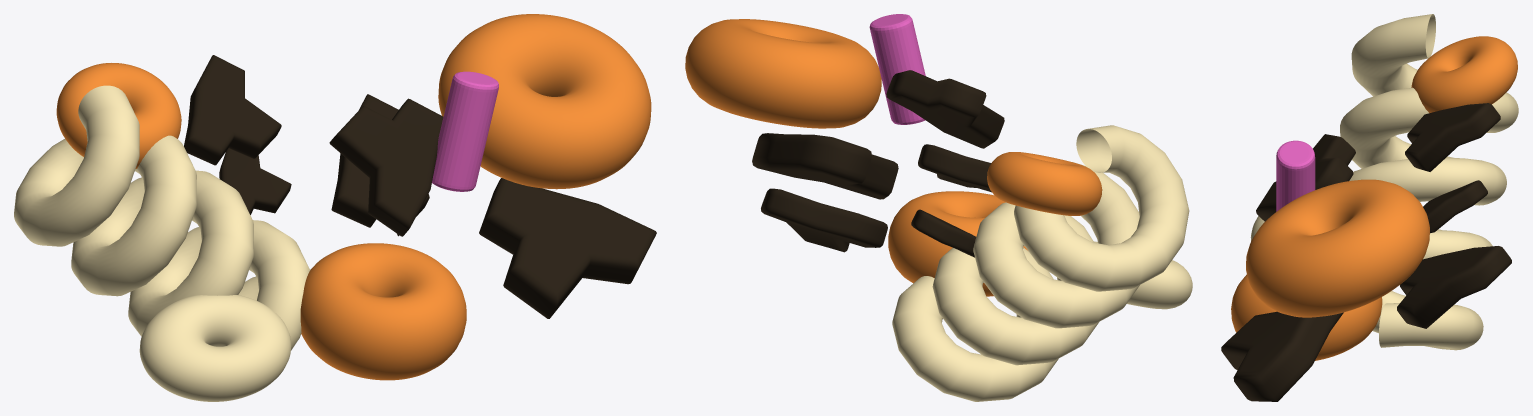
Rendered from background-model.glb.
3 views of the same model, side by side, from view 1: azimuth 30°, elevation 25°; view 2: azimuth 150°, elevation 25°; view 3: azimuth 270°, elevation 25° (orthographic). The views are drawn at different scales.
Parts seen in each view (by area): view 1: spring-001, torus-003, torus-001, abstrac-y-004, torus-002.001, abstrac-y-001, abstrac-y-002, torus-002, Cylinder, abstrac-y-002.001, abstrac-y-003; view 2: spring-001, torus-003, abstrac-y-004, torus-002, torus-001, abstrac-y-001, abstrac-y-003, Cylinder, abstrac-y-002, torus-002.001, abstrac-y-002.001; view 3: torus-003, spring-001, abstrac-y-004, torus-002, abstrac-y-003, abstrac-y-002, torus-001, abstrac-y-001, Cylinder, abstrac-y-002.001.
Part boxes in pixels (x1,y1,x2,y2): spring-001: (14,85,310,350); torus-003: (438,14,651,189); torus-001: (300,243,466,380); abstrac-y-004: (479,178,656,318); torus-002.001: (139,295,291,401); abstrac-y-001: (329,98,443,236); abstrac-y-002: (184,55,281,165); torus-002: (56,63,181,168); Cylinder: (432,71,498,191); abstrac-y-002.001: (219,148,291,214); abstrac-y-003: (331,94,429,236); spring-001: (892,125,1189,401); torus-003: (685,19,881,128); abstrac-y-004: (752,133,898,199); torus-002: (987,152,1102,215); torus-001: (888,191,1027,296); abstrac-y-001: (886,70,1004,148); abstrac-y-003: (761,188,887,252); Cylinder: (869,14,925,124); abstrac-y-002: (918,144,991,192); torus-002.001: (1094,241,1192,309); abstrac-y-002.001: (911,209,976,257); torus-003: (1246,179,1429,317); spring-001: (1340,14,1518,350); abstrac-y-004: (1221,311,1343,401); torus-002: (1411,36,1517,113); abstrac-y-003: (1397,246,1511,328); abstrac-y-002: (1405,103,1500,171); torus-001: (1231,274,1382,360); abstrac-y-001: (1256,134,1355,221); Cylinder: (1276,140,1315,211); abstrac-y-002.001: (1423,180,1487,233).
Bounding box in the file's own units: 15.8 × 8.56 × 8.17.
